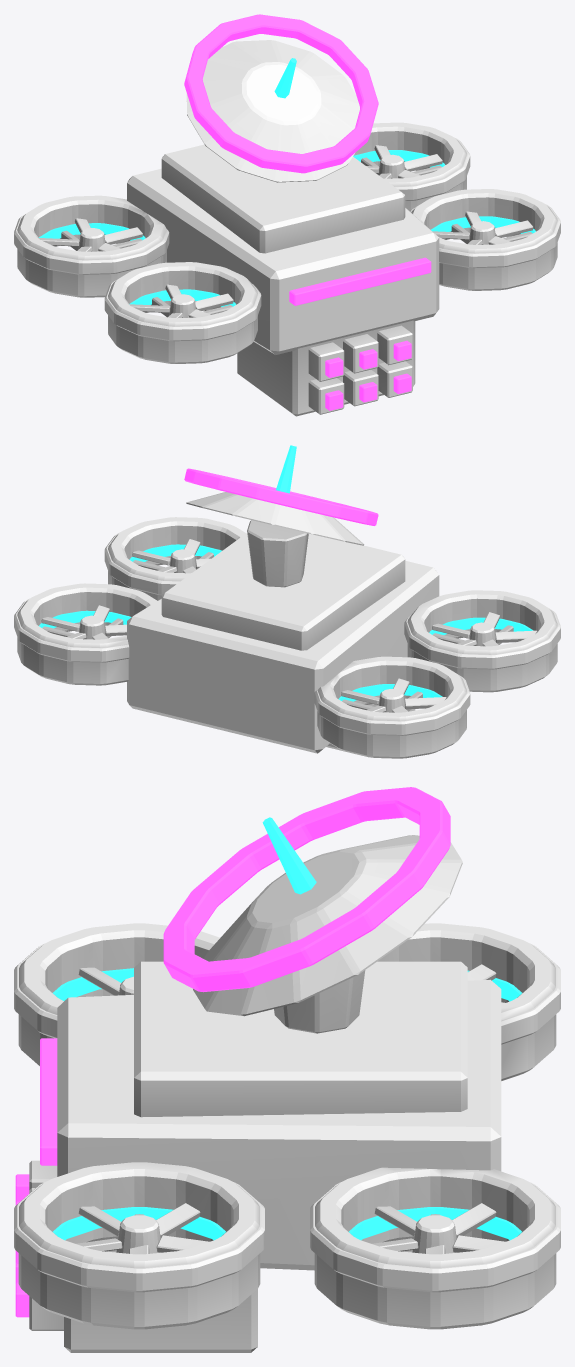
File: e2_swarmer_pod.glb
3 renders of one model, top to bottom at view 1: azimuth 30°, elevation 25°; view 2: azimuth 150°, elevation 25°; view 3: azimuth 270°, elevation 25°, orthographic. The views are drawn at different scales.
Parts seen in each view (by area): view 1: CarrierBody, DishBack, CarrierTopPlate, DishGlowRim, Fan_LF_Shroud, Fan_RF_Shroud, Fan_LB_Shroud, VentralBay, Fan_RB_Shroud, Fan_LF_TrimRim, Fan_LB_TrimRim, FrontNeonBar (+12 smaller); view 2: CarrierBody, CarrierTopPlate, Fan_LB_Shroud, Fan_LF_Shroud, Fan_RB_Shroud, Fan_RF_Shroud, DishBack, RadarMast, DishGlowRim, Fan_LF_TrimRim, Fan_LB_TrimRim, Fan_RB_TrimRim (+12 smaller); view 3: CarrierBody, CarrierTopPlate, Fan_RF_Shroud, Fan_RB_Shroud, DishGlowRim, DishBack, Fan_LB_Shroud, Fan_LF_Shroud, Fan_RB_TrimRim, Fan_RF_TrimRim, VentralBay, RadarMast (+12 smaller).
Part boxes in pixels (x1,y1,x2,y2): CarrierBody: [127, 168, 439, 354]; DishBack: [186, 40, 359, 182]; CarrierTopPlate: [161, 144, 405, 253]; DishGlowRim: [184, 14, 378, 173]; Fan_LF_Shroud: [108, 262, 257, 363]; Fan_RF_Shroud: [411, 189, 557, 290]; Fan_LB_Shroud: [17, 195, 166, 297]; VentralBay: [237, 320, 415, 416]; Fan_RB_Shroud: [353, 122, 466, 211]; Fan_LF_TrimRim: [104, 272, 261, 341]; Fan_LB_TrimRim: [14, 206, 169, 274]; FrontNeonBar: [289, 257, 431, 305]; CarrierBody: [127, 560, 439, 753]; CarrierTopPlate: [161, 533, 405, 650]; Fan_LB_Shroud: [317, 656, 466, 758]; Fan_LF_Shroud: [407, 590, 557, 692]; Fan_RB_Shroud: [17, 583, 157, 685]; Fan_RF_Shroud: [108, 517, 245, 600]; DishBack: [186, 492, 363, 545]; RadarMast: [247, 520, 308, 587]; DishGlowRim: [184, 468, 378, 525]; Fan_LF_TrimRim: [404, 600, 560, 669]; Fan_LB_TrimRim: [314, 667, 470, 735]; Fan_RB_TrimRim: [14, 594, 157, 662]; CarrierBody: [57, 979, 501, 1270]; CarrierTopPlate: [134, 961, 467, 1117]; Fan_RF_Shroud: [18, 1162, 260, 1329]; Fan_RB_Shroud: [314, 1167, 556, 1329]; DishGlowRim: [163, 787, 450, 992]; DishBack: [193, 835, 462, 1016]; Fan_LB_Shroud: [377, 923, 556, 1080]; Fan_LF_Shroud: [18, 923, 219, 1065]; Fan_RB_TrimRim: [310, 1182, 560, 1292]; Fan_RF_TrimRim: [14, 1182, 264, 1292]; VentralBay: [64, 1289, 257, 1352]; RadarMast: [274, 970, 365, 1033].
Bounding box in the file's own units: 2.8 × 1.85 × 1.87.
